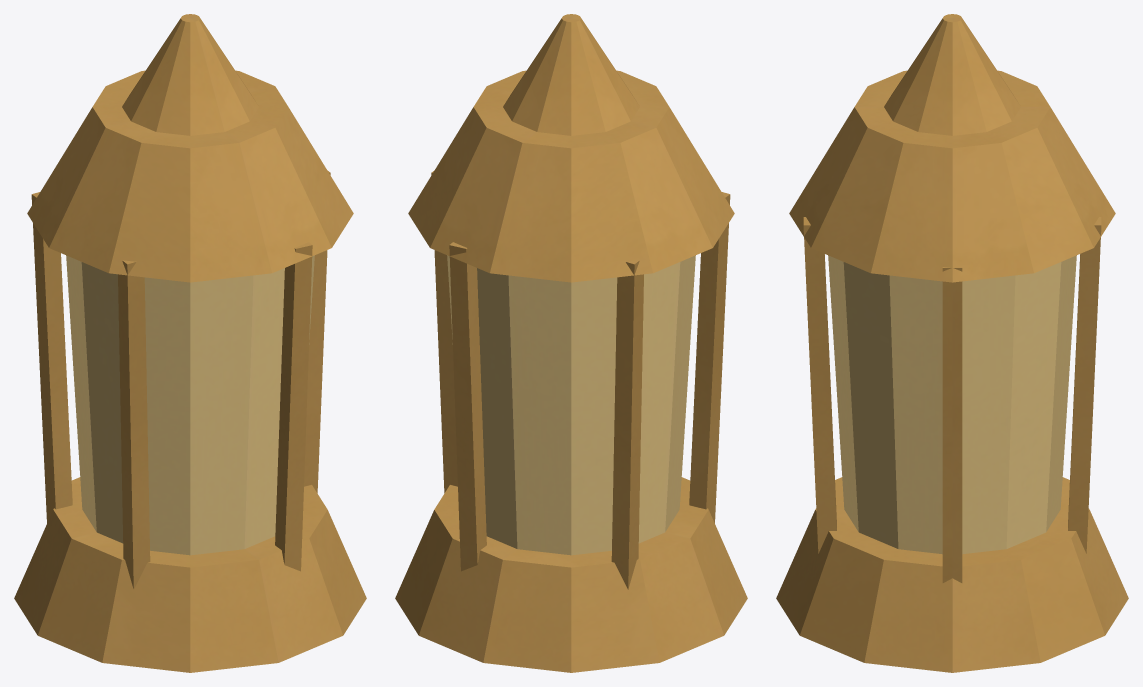
The model's file is SM_Theater_Lamp_Lantern.fbx.
3 renders of one model, left to right at view 1: azimuth 30°, elevation 25°; view 2: azimuth 150°, elevation 25°; view 3: azimuth 270°, elevation 25°, orthographic.
Visible parts, largest first — view 1: SM_Theater_Lamp_Lantern_LOD0; view 2: SM_Theater_Lamp_Lantern_LOD0; view 3: SM_Theater_Lamp_Lantern_LOD0.
Part boxes in pixels (x1,y1,x2,y2): SM_Theater_Lamp_Lantern_LOD0: (14, 14, 366, 672); SM_Theater_Lamp_Lantern_LOD0: (395, 14, 747, 672); SM_Theater_Lamp_Lantern_LOD0: (776, 14, 1128, 672).
Size of what is drawn, in the model's own units: 0.54 by 0.98 by 0.54.
